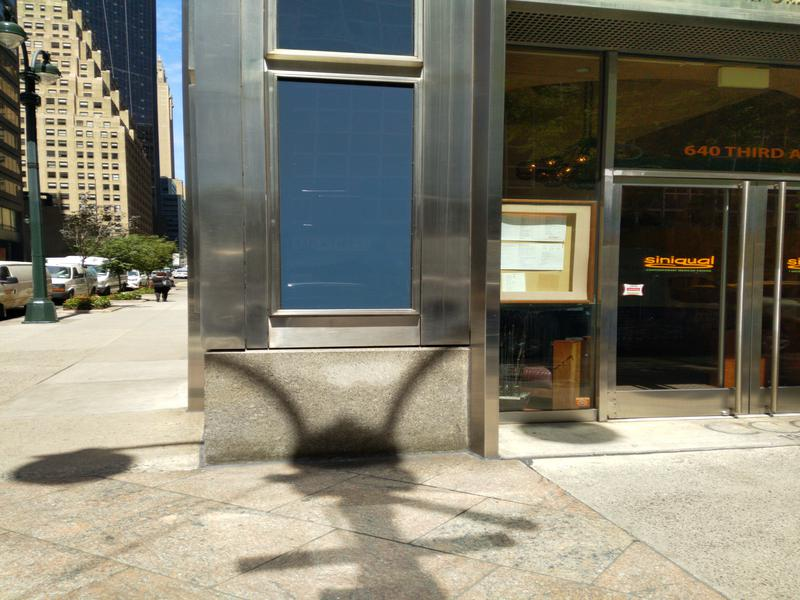door: (604, 179, 754, 418)
